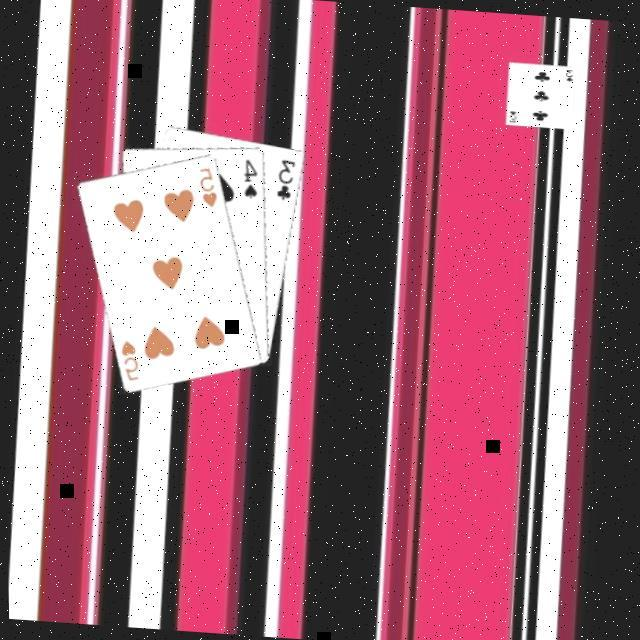3C: (272, 153, 300, 201)
4S: (239, 153, 264, 200)
5H: (192, 161, 222, 209), (115, 334, 143, 382)
